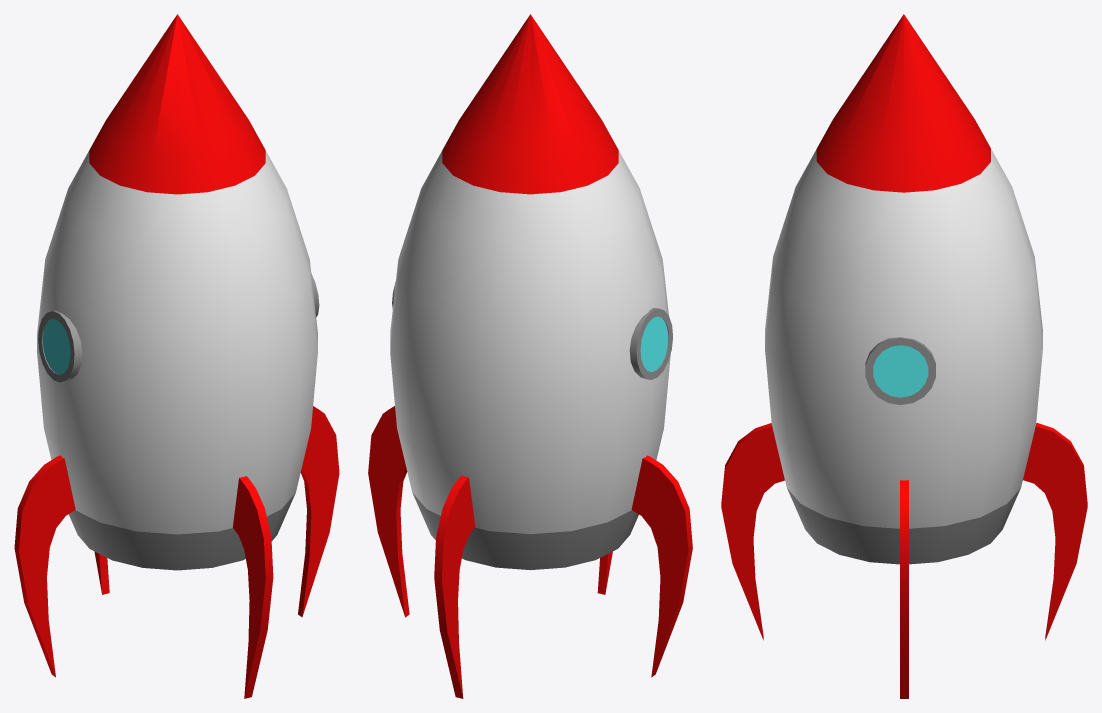
Rendered from rocket.glb.
3 views of the same model, side by side, from view 1: azimuth 30°, elevation 25°; view 2: azimuth 150°, elevation 25°; view 3: azimuth 270°, elevation 25° (orthographic).
Parts seen in each view (by area): view 1: Cylinder010, Line006, Cylinder007, Cylinder006; view 2: Cylinder010, Line006, Cylinder007, Cylinder006; view 3: Cylinder010, Line006, Cylinder007, Cylinder006.
Boxes of the visible parts, left/top/right/bottom form: Cylinder010: left=37, top=150, right=317, bottom=534; Line006: left=14, top=14, right=339, bottom=698; Cylinder007: left=38, top=273, right=319, bottom=570; Cylinder006: left=42, top=319, right=70, bottom=374; Cylinder010: left=390, top=150, right=670, bottom=534; Line006: left=368, top=14, right=692, bottom=698; Cylinder007: left=392, top=281, right=672, bottom=570; Cylinder006: left=640, top=316, right=668, bottom=371; Cylinder010: left=765, top=149, right=1042, bottom=528; Line006: left=721, top=14, right=1087, bottom=698; Cylinder007: left=787, top=337, right=1020, bottom=564; Cylinder006: left=873, top=345, right=928, bottom=397.
Bounding box in the file's own units: 19246 × 36264 × 19246.
